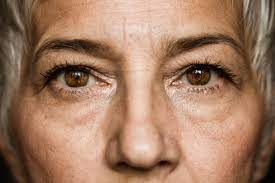e.brown: (64, 69, 91, 88)
